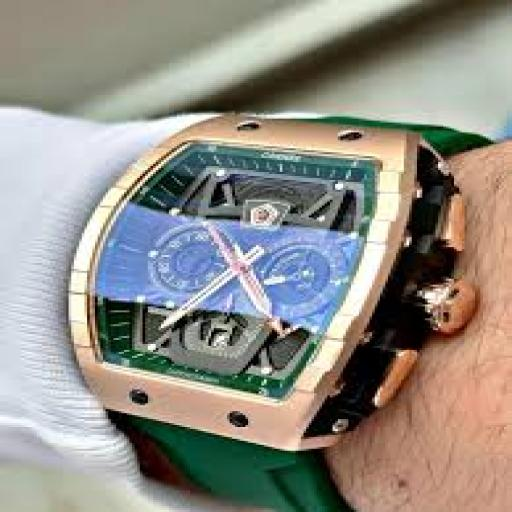KolSaati: (30, 40, 494, 494)
